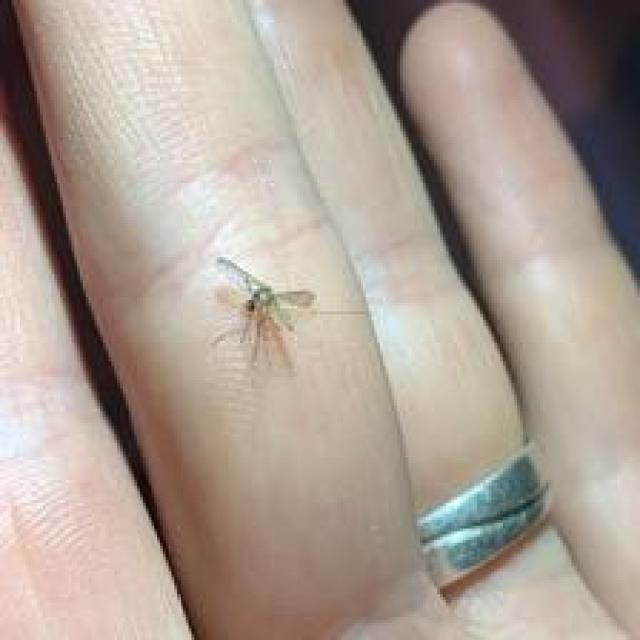Culex: (209, 255, 317, 372)
